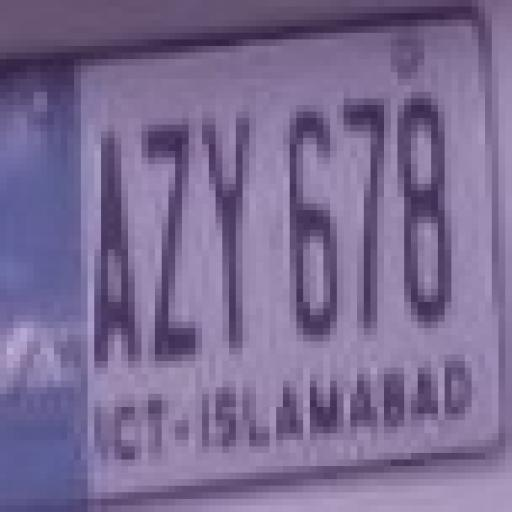6: (285, 100, 340, 355)
7: (343, 96, 396, 333)
8: (400, 85, 464, 335)
A: (92, 124, 134, 376)
Y: (199, 108, 264, 362)
Z: (139, 112, 198, 366)
